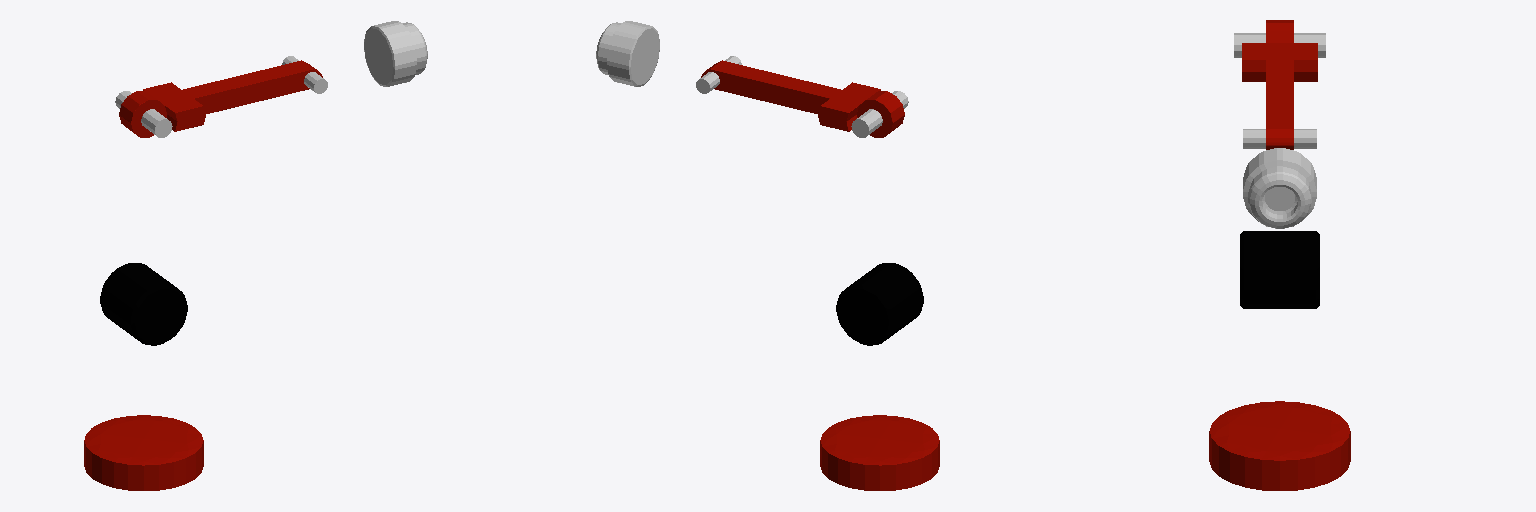
URDF robot description (brazo_robotico):
<robot name="brazo_robotico">
    <!-- BASE DEL ROBOT -->
    <link name="world"/>


    <!-- BASE DEL BRAZO -->
    <link name="base_link">
        <visual>
            <geometry>
                <mesh filename="package://mis_modelos/meshes/robotarm_meshes/Base_brazo.dae"/>
            </geometry>
            <origin rpy="0 0 0" xyz="0 0 0"/>
        </visual>

        <collision>
            <geometry>
                <mesh filename="package://mis_modelos/meshes/robotarm_meshes/Base_brazo.dae"/>
                <!--<cylinder length="0.93" radius="3.8"/>-->
            </geometry>
            <origin rpy="0 0 0" xyz="0 0 0"/>
        </collision>

        <inertial>
            <origin xyz="0 0 0.465"/>
            <mass value="200"/>
            <inertia ixx="736.415" ixy="0.0" ixz="0.0" iyy="736.415" iyz="0.0" izz="1444.0"/>
        </inertial>
    </link>

    <gazebo reference="base_link"/>

    <joint name="fixed_joint" type="fixed">
        <parent link="world"/>
        <child link="base_link"/>
    </joint>


    <!-- BASE DEL CILINDRO -->
    <link name="base_cilindro_link">
        <visual>
            <geometry>
                <mesh filename="package://mis_modelos/meshes/robotarm_meshes/Base_cilindro.dae"/>
            </geometry>
            <origin rpy="0 0 0" xyz="0 0 0"/>
        </visual>

        <collision>
            <geometry>
                <mesh filename="package://mis_modelos/meshes/robotarm_meshes/Base_cilindro.dae"/>
                <!--<cylinder length="0.63" radius="1.25"/>-->
            </geometry>
            <origin rpy="0 0 0" xyz="0 0 0"/>
        </collision>

        <inertial>
            <origin xyz="0 0 0.93"/>
            <mass value="0.5"/>
            <inertia ixx="0.21185" ixy="0.0" ixz="0.0" iyy="0.21185" iyz="0.0" izz="0.390625"/>
        </inertial>
    </link>

    <gazebo reference="base_cilindro_link"/>

    <joint name="base_cilindro_joint" type="continuous">
        <parent link="base_link"/>
		<child link="base_cilindro_link"/>
		<origin xyz="0 0 0" rpy="0 0 0"/>
        <limit lower="-3.14" upper="3.14" effort="500" velocity="0.25"/>
		<axis xyz="0 0 1"/>
    </joint>


    <!-- CILINDRO -->
    <link name="cilindro_link">
        <visual>
            <geometry>
                <mesh filename="package://mis_modelos/meshes/robotarm_meshes/Cilindro.dae"/>
            </geometry>
            <origin rpy="0 0 0" xyz="0 0 0"/>
        </visual>

        <collision>
            <geometry>
                <mesh filename="package://mis_modelos/meshes/robotarm_meshes/Cilindro.dae"/>
                <!--<cylinder length="3.5" radius="0.46"/>-->
            </geometry>
            <origin rpy="0 0 0" xyz="0 0 0"/>
        </collision>

        <inertial>
            <origin xyz="0 0 0"/>
            <mass value="0.4"/>
            <inertia ixx="0.429493" ixy="0.0" ixz="0.0" iyy="0.429493" iyz="0.0" izz="0.84"/>
        </inertial>
    </link>

    <gazebo reference="cilindro_link"/>

    <joint name="cilindro_joint" type="fixed">
        <parent link="base_cilindro_link"/>
		<child link="cilindro_link"/>
		<origin xyz="0 0 0" rpy="0 0 0"/>
    </joint>


    <!-- CABEZA DEL CILINDRO -->
    <link name="cabeza_cilindro_link">
        <visual>
            <geometry>
                <mesh filename="package://mis_modelos/meshes/robotarm_meshes/Cabeza_cilindro.dae"/>
            </geometry>
            <origin rpy="0 0 0" xyz="0 0 0"/>
        </visual>

        <collision>
            <geometry>
                <mesh filename="package://mis_modelos/meshes/robotarm_meshes/Cabeza_cilindro.dae"/>
                <!--<cylinder length="0.35" radius="0.67"/>-->
            </geometry>
            <origin rpy="0 0 0" xyz="0 0 0"/>
        </collision>

        <inertial>
            <origin xyz="0 0 0"/>
            <mass value="0.2"/>
            <inertia ixx="0.0244867" ixy="0.0" ixz="0.0" iyy="0.0244867" iyz="0.0" izz="0.04489"/>
        </inertial>
    </link>

    <gazebo reference="cabeza_cilindro_link"/>

    <joint name="cabeza_cilindro_joint" type="fixed">
        <parent link="cilindro_link"/>
		<child link="cabeza_cilindro_link"/>
		<origin xyz="0 0 0" rpy="0 0 0"/>
    </joint>


    <!-- PRIMER ESLABÓN -->
    <link name="Link1_link">
        <visual>
            <geometry>
                <mesh filename="package://mis_modelos/meshes/robotarm_meshes/Link1.dae"/>
            </geometry>
            <origin rpy="0 0 0" xyz="0 0 -4.2"/>
        </visual>

        <collision>
            <geometry>
                <mesh filename="package://mis_modelos/meshes/robotarm_meshes/Link1.dae"/>
                <!--<cylinder length="5.45" radius="0.77"/>-->
            </geometry>
            <origin rpy="0 0 0" xyz="0 0 -4.2"/>
        </collision>

        <inertial>
            <origin xyz="0 0 2.1"/>
            <mass value="0.025"/>
            <inertia ixx="0.0655858" ixy="0.0" ixz="0.0" iyy="0.0655858" iyz="0.0" izz="0.13"/>
        </inertial>
    </link>

    <gazebo reference="Link1_link"/>

    <joint name="Link1_joint" type="revolute">
        <parent link="cabeza_cilindro_link"/>
		<child link="Link1_link"/>
		<origin xyz="0 0 4.2" rpy="0 0 0"/>
        <limit lower="-1.5708" upper="1.5708" effort="500" velocity="0.1"/>
		<axis xyz="0 1 0"/>
    </joint>


    <!-- PRIMER TORNILLO -->
    <link name="Tornillo1_link">
        <visual>
            <geometry>
                <mesh filename="package://mis_modelos/meshes/robotarm_meshes/Tornillo1.dae"/>
            </geometry>
            <origin rpy="0 0 0" xyz="0 0 -4.2"/>
        </visual>

        <collision>
            <geometry>
                <mesh filename="package://mis_modelos/meshes/robotarm_meshes/Tornillo1.dae"/>
                <!--<cylinder length="0.4" radius="0.21"/>-->
            </geometry>
            <origin rpy="0 0 0" xyz="0 0 -4.2"/>
        </collision>

        <inertial>
            <origin xyz="0 0 2.1"/>
            <mass value="0.001"/>
            <inertia ixx="0.00002435833" ixy="0.0" ixz="0.0" iyy="0.00002435833" iyz="0.0" izz="0.000048"/>
        </inertial>
    </link>

    <gazebo reference="Tornillo1_link"/>

    <joint name="Tornillo1_joint" type="fixed">
        <parent link="Link1_link"/>
		<child link="Tornillo1_link"/>
		<origin xyz="0 0 0" rpy="0 0 0"/>
    </joint>


    <!-- SEGUNDO ESLABÓN -->
    <link name="Link2_link">
        <visual>
            <geometry>
                <mesh filename="package://mis_modelos/meshes/robotarm_meshes/Link2.dae"/>
            </geometry>
            <origin rpy="0 0 0" xyz="0 0 -8.48"/>
        </visual>

        <collision>
            <geometry>
                <mesh filename="package://mis_modelos/meshes/robotarm_meshes/Link2.dae"/>
                <!--<cylinder length="4.5" radius="0.85"/>-->
            </geometry>
            <origin rpy="0 0 0" xyz="0 0 -8.48"/>
        </collision>

        <inertial>
            <origin xyz="2.1 0 0" rpy="0 1.5708 0"/>
            <mass value="0.025"/>
            <inertia ixx="0.046703125" ixy="0.0" ixz="0.0" iyy="0.046703125" iyz="0.0" izz="0.0903125"/>
        </inertial>
    </link>

    <gazebo reference="Link2_link"/>

    <joint name="Link2_joint" type="revolute">
        <parent link="Tornillo1_link"/>
		<child link="Link2_link"/>
		<origin xyz="0 0 4.28" rpy="0 0 0"/>
        <limit lower="-1.5708" upper="1.5708" effort="500" velocity="0.25"/>
		<axis xyz="0 1 0"/>
    </joint>


    <!-- SEGUNDO TORNILLO -->
    <link name="Tornillo2_link">
        <visual>
            <geometry>
                <mesh filename="package://mis_modelos/meshes/robotarm_meshes/Tornillo2.dae"/>
            </geometry>
            <origin rpy="0 0 0" xyz="0 0 -8.48"/>
        </visual>

        <collision>
            <geometry>
                <mesh filename="package://mis_modelos/meshes/robotarm_meshes/Tornillo2.dae"/>
                <!--<cylinder length="0.4" radius="0.21"/>-->
            </geometry>
            <origin rpy="0 0 0" xyz="0 0 -8.48"/>
        </collision>

        <inertial>
            <origin xyz="0 0 0"/>
            <mass value="0.001"/>
            <inertia ixx="0.00002435833" ixy="0.0" ixz="0.0" iyy="0.00002435833" iyz="0.0" izz="0.000048"/>
        </inertial>
    </link>

    <gazebo reference="Tornillo2_link"/>

    <joint name="Tornillo2_joint" type="fixed">
        <parent link="Link2_link"/>
		<child link="Tornillo2_link"/>
		<origin xyz="0 0 0" rpy="0 0 0"/>
    </joint>


    <!-- TERCER ESLABÓN -->
    <link name="Link3_link">
        <visual>
            <geometry>
                <mesh filename="package://mis_modelos/meshes/robotarm_meshes/Link3.dae"/>
            </geometry>
            <origin rpy="0 0 0" xyz="-3.8 0 -8.48"/>
        </visual>

        <collision>
            <geometry>
                <mesh filename="package://mis_modelos/meshes/robotarm_meshes/Link3.dae"/>
                <!--<cylinder length="0.59" radius="1.15"/>-->
            </geometry>
            <origin rpy="0 0 0" xyz="-3.8 0 -8.48"/>
        </collision>

        <inertial>
            <origin xyz="0.95 0 0"/>
            <mass value="0.02"/>
            <inertia ixx="0.00719267" ixy="0.0" ixz="0.0" iyy="0.00719267" iyz="0.0" izz="0.013225"/>
        </inertial>
    </link>

    <gazebo reference="Link3_link"/>

    <joint name="Link3_joint" type="revolute">
        <parent link="Tornillo2_link"/>
		<child link="Link3_link"/>
		<origin xyz="3.8 0 0" rpy="0 0 0"/>
        <limit lower="-1.5708" upper="1.5708" effort="500" velocity="0.1"/>
		<axis xyz="0 1 0"/>
    </joint>


    <!-- CABEZA DEL BRAZO -->
    <link name="Cabeza_link">
        <visual>
            <geometry>
                <mesh filename="package://mis_modelos/meshes/robotarm_meshes/Cabeza.dae"/>
            </geometry>
            <origin rpy="0 0 0" xyz="-3.8 0 -8.48"/>
        </visual>

        <collision>
            <geometry>
                <mesh filename="package://mis_modelos/meshes/robotarm_meshes/Cabeza.dae"/>
                <!--<cylinder length="0.915" radius="1.3"/>-->
            </geometry>
            <origin rpy="0 0 0" xyz="-3.8 0 -8.48"/>
        </collision>

        <inertial>
            <origin xyz="1.9 0 0"/>
            <mass value="0.01"/>
            <inertia ixx="0.0049227" ixy="0.0" ixz="0.0" iyy="0.0049227" iyz="0.0" izz="0.00845"/>
        </inertial>
    </link>

    <gazebo reference="Cabeza_link"/>

    <joint name="Cabeza_joint" type="continuous">
        <parent link="Link3_link"/>
		<child link="Cabeza_link"/>
		<origin xyz="0 0 0" rpy="0 0 0"/>
        <limit lower="-3.14" upper="3.14" effort="500" velocity="0.1"/>
		<axis xyz="1 0 0"/>
    </joint>


    <!-- PLUGINS -->
    <gazebo>
            <plugin name="gazebo_ros_control" filename="libgazebo_ros_control.so">
                <robotNamespace>/brazo</robotNamespace>
                <legacyModeNS>true</legacyModeNS>
            </plugin>
    </gazebo>


    <!-- Base rotativa -->
    <transmission name="trans_base">
        <type>transmission_interface/SimpleTransmission</type>
        <joint name="base_cilindro_joint">
            <hardwareInterface>hardware_interface/EffortJointInterface</hardwareInterface>
        </joint>

        <actuator name="motor_base">
            <mechanicalReduction>1</mechanicalReduction>
        </actuator>
    </transmission>

    <!-- Primer eslabon -->
    <transmission name="trans_link1">
        <type>transmission_interface/SimpleTransmission</type>
        <joint name="Link1_joint">
            <hardwareInterface>hardware_interface/EffortJointInterface</hardwareInterface>
        </joint>

        <actuator name="motor_link1">
            <mechanicalReduction>1</mechanicalReduction>
        </actuator>
    </transmission>

    <!-- Segundo eslabon -->
    <transmission name="trans_link2">
        <type>transmission_interface/SimpleTransmission</type>
        <joint name="Link2_joint">
            <hardwareInterface>hardware_interface/EffortJointInterface</hardwareInterface>
        </joint>

        <actuator name="motor_link2">
            <mechanicalReduction>1</mechanicalReduction>
        </actuator>
    </transmission>

    <!-- Tercer eslabon -->
    <transmission name="trans_link3">
        <type>transmission_interface/SimpleTransmission</type>
        <joint name="Link3_joint">
            <hardwareInterface>hardware_interface/EffortJointInterface</hardwareInterface>
        </joint>

        <actuator name="motor_link3">
            <mechanicalReduction>1</mechanicalReduction>
        </actuator>
    </transmission>

    <!-- Cabeza -->
    <transmission name="trans_cabeza">
        <type>transmission_interface/SimpleTransmission</type>
        <joint name="Cabeza_joint">
            <hardwareInterface>hardware_interface/EffortJointInterface</hardwareInterface>
        </joint>

        <actuator name="motor_cabeza">
            <mechanicalReduction>1</mechanicalReduction>
        </actuator>
    </transmission>
</robot>

--- What the picture shows (computed from the rendered views, not written in the file) ---
Views: 3 orthographic renders of the robot side by side, from view 1: azimuth 30°, elevation 25°; view 2: azimuth 150°, elevation 25°; view 3: azimuth 270°, elevation 25°.
Model brazo_robotico with 11 links and 10 joints (3 revolute, 2 continuous, 5 fixed), rooted at world, posed every joint at zero.
Visible links, largest first — view 1: base_cilindro_link, Link2_link, cabeza_cilindro_link, Cabeza_link, Tornillo1_link; view 2: base_cilindro_link, Link2_link, cabeza_cilindro_link, Cabeza_link, Tornillo1_link; view 3: base_cilindro_link, cabeza_cilindro_link, Link2_link, Cabeza_link, Tornillo2_link, Tornillo1_link.
Boxes of the visible links, x1,y1,x2,y2 form: base_cilindro_link: (84,415,203,490); Link2_link: (119,60,322,137); cabeza_cilindro_link: (100,263,187,345); Cabeza_link: (364,21,427,86); Tornillo1_link: (115,91,172,137); base_cilindro_link: (820,415,939,490); Link2_link: (701,60,904,137); cabeza_cilindro_link: (836,263,923,345); Cabeza_link: (596,21,659,86); Tornillo1_link: (851,91,908,137); base_cilindro_link: (1209,401,1350,490); cabeza_cilindro_link: (1240,231,1319,308); Link2_link: (1242,20,1317,149); Cabeza_link: (1243,148,1316,228); Tornillo2_link: (1243,129,1316,148); Tornillo1_link: (1234,33,1325,57).
Size in the robot's own frame: 7.56 by 2.4 by 8.46 metres.
6 mesh visuals loaded from 10 distinct referenced files (6 Collada DAE); not drawn: 4 (reference not matched to a file when rendering).